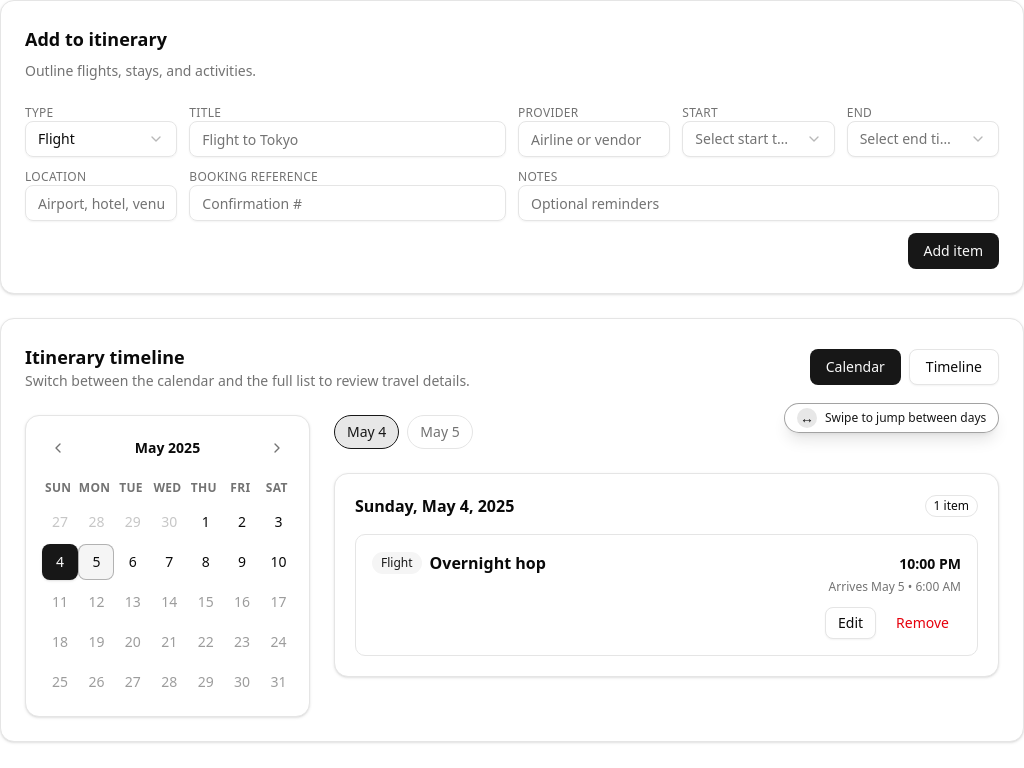
Test case: ItineraryPanel › renders overnight segments with arrival/departure context across multiple days
Expected: the text "Overnight hop" is shown, x1=430 y1=551 x2=546 y2=575
Expected: the text "Arrives May 5 • 6:00 AM" is shown, x1=829 y1=579 x2=961 y2=595
Click the button "5".
click(96, 562)  # box x1=78 y1=544 x2=114 y2=580
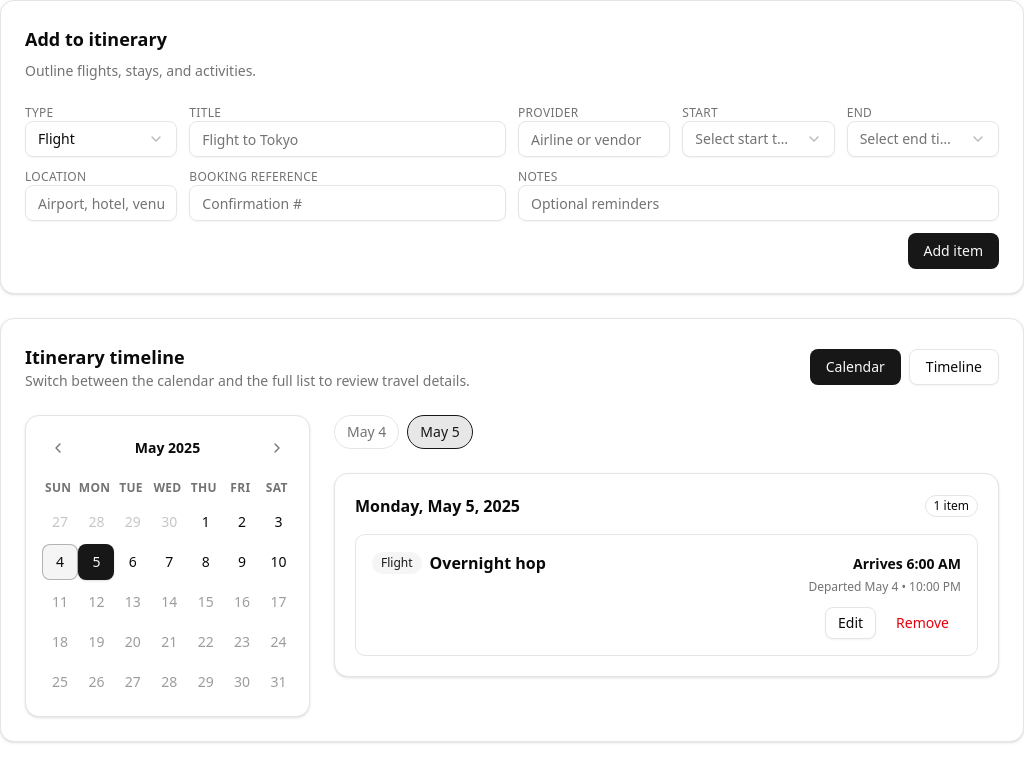
Result: the text "Arrives 6:00 AM" is shown at x1=853 y1=554 x2=961 y2=573
Result: the text "Departed May 4 • 10:00 PM" is shown at x1=808 y1=579 x2=961 y2=595
